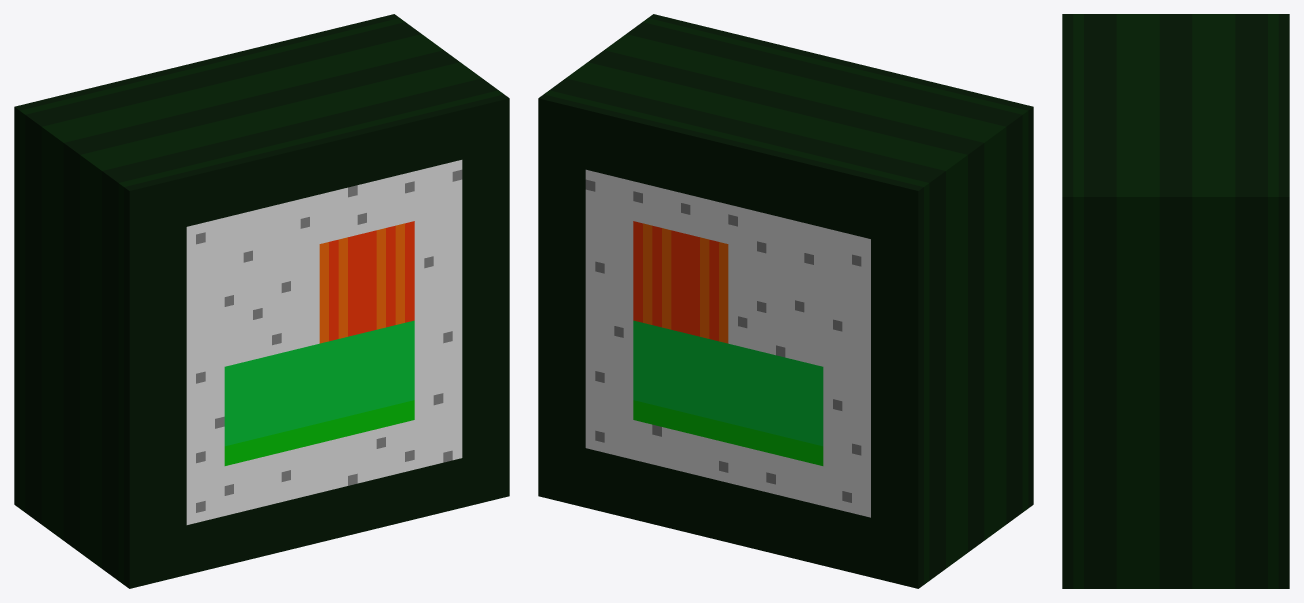
The model's file is sushi 1.obj.
3 views of the same model, side by side, from view 1: azimuth 30°, elevation 25°; view 2: azimuth 150°, elevation 25°; view 3: azimuth 270°, elevation 25° (orthographic).
Bounding box in the file's own units: 4 × 4 × 2.1.
1 material, 1 textured.
